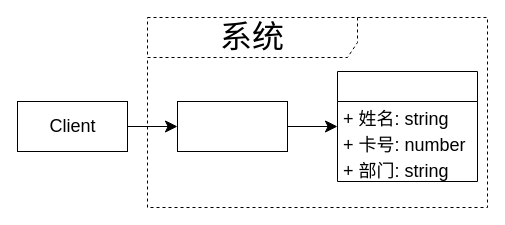
Image size: 505x225. Some labels were removed from this diagram. Here are the shapes that lost their labels. From the top down, the box of each, then its label:
(176, 100, 288, 152): 人员管理
(336, 70, 478, 182): 人员
